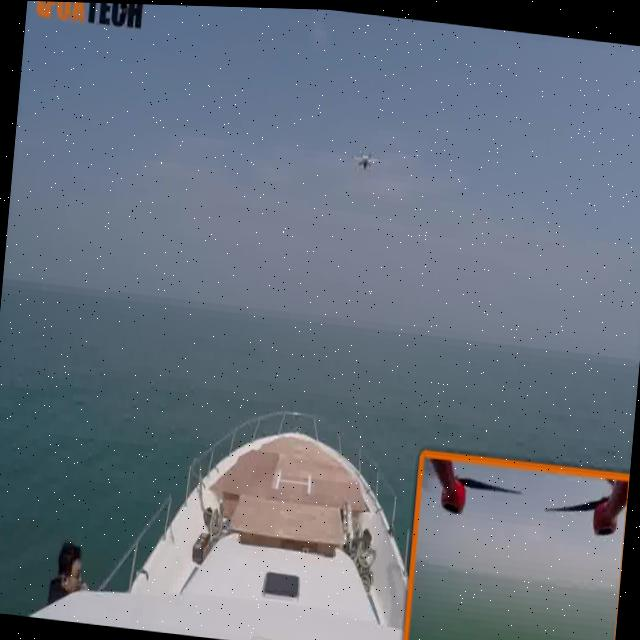drone: (346, 144, 387, 181)
